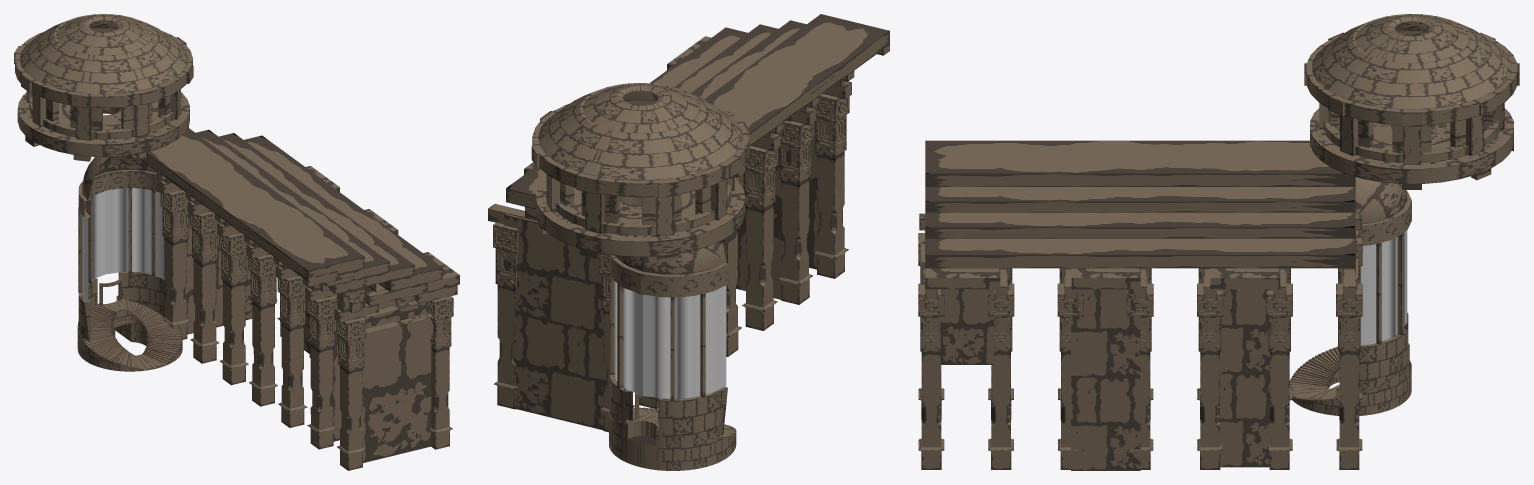
Rendered from new_central_room.fbx.
3 views of the same model, side by side, from view 1: azimuth 30°, elevation 25°; view 2: azimuth 150°, elevation 25°; view 3: azimuth 270°, elevation 25° (orthographic). The views are drawn at different scales.
Parts seen in each view (by area): view 1: collum_vault.006, collum_vault.007, building_cut.006, building_cut.013, chamber.001, chamber.008, back_windows, stairs.011, building_cut.009, building_cut.008, building_cut.007, chamber.007 (+6 smaller); view 2: collum_vault.006, building_cut.012, chamber.001, back_windows, chamber.008, building_cut.006, collum_vault.007, stairs.011, chamber.007, building_cut.014, building_cut.013, building_cut.011 (+6 smaller); view 3: building_cut.012, building_cut.006, collum_vault.007, building_cut.009, chamber.001, building_cut.008, collum_vault.006, building_cut.007, chamber.008, back_windows, chamber.007, stairs.011 (+6 smaller).
Part boxes in pixels (left/top/right/bottom): collum_vault.006: left=244, top=235, right=457, bottom=470; collum_vault.007: left=128, top=155, right=310, bottom=406; building_cut.006: left=134, top=128, right=364, bottom=281; building_cut.013: left=332, top=286, right=437, bottom=462; chamber.001: left=14, top=28, right=193, bottom=161; chamber.008: left=20, top=14, right=187, bottom=94; back_windows: left=82, top=155, right=164, bottom=302; stairs.011: left=77, top=295, right=182, bottom=371; building_cut.009: left=244, top=135, right=442, bottom=291; building_cut.008: left=219, top=133, right=414, bottom=286; building_cut.007: left=196, top=129, right=389, bottom=279; chamber.007: left=56, top=15, right=151, bottom=55; collum_vault.006: left=742, top=44, right=889, bottom=330; building_cut.012: left=504, top=36, right=711, bottom=429; chamber.001: left=531, top=100, right=749, bottom=262; back_windows: left=614, top=204, right=726, bottom=398; chamber.008: left=538, top=83, right=742, bottom=180; building_cut.006: left=704, top=14, right=889, bottom=147; collum_vault.007: left=488, top=118, right=782, bottom=432; stairs.011: left=609, top=407, right=736, bottom=470; chamber.007: left=582, top=84, right=698, bottom=133; building_cut.014: left=609, top=374, right=727, bottom=438; building_cut.013: left=736, top=116, right=819, bottom=299; building_cut.011: left=609, top=255, right=727, bottom=297; building_cut.012: left=925, top=230, right=1357, bottom=470; building_cut.006: left=925, top=140, right=1355, bottom=186; collum_vault.007: left=1127, top=213, right=1362, bottom=469; building_cut.009: left=925, top=238, right=1355, bottom=268; chamber.001: left=1304, top=31, right=1519, bottom=189; building_cut.008: left=925, top=212, right=1355, bottom=238; collum_vault.006: left=918, top=213, right=1083, bottom=469; building_cut.007: left=925, top=187, right=1355, bottom=212; chamber.008: left=1312, top=14, right=1511, bottom=109; back_windows: left=1355, top=177, right=1407, bottom=345; chamber.007: left=1355, top=15, right=1468, bottom=63; stairs.011: left=1289, top=343, right=1411, bottom=415.
Size of the model in its own units: 5113 by 6494 by 9743.
